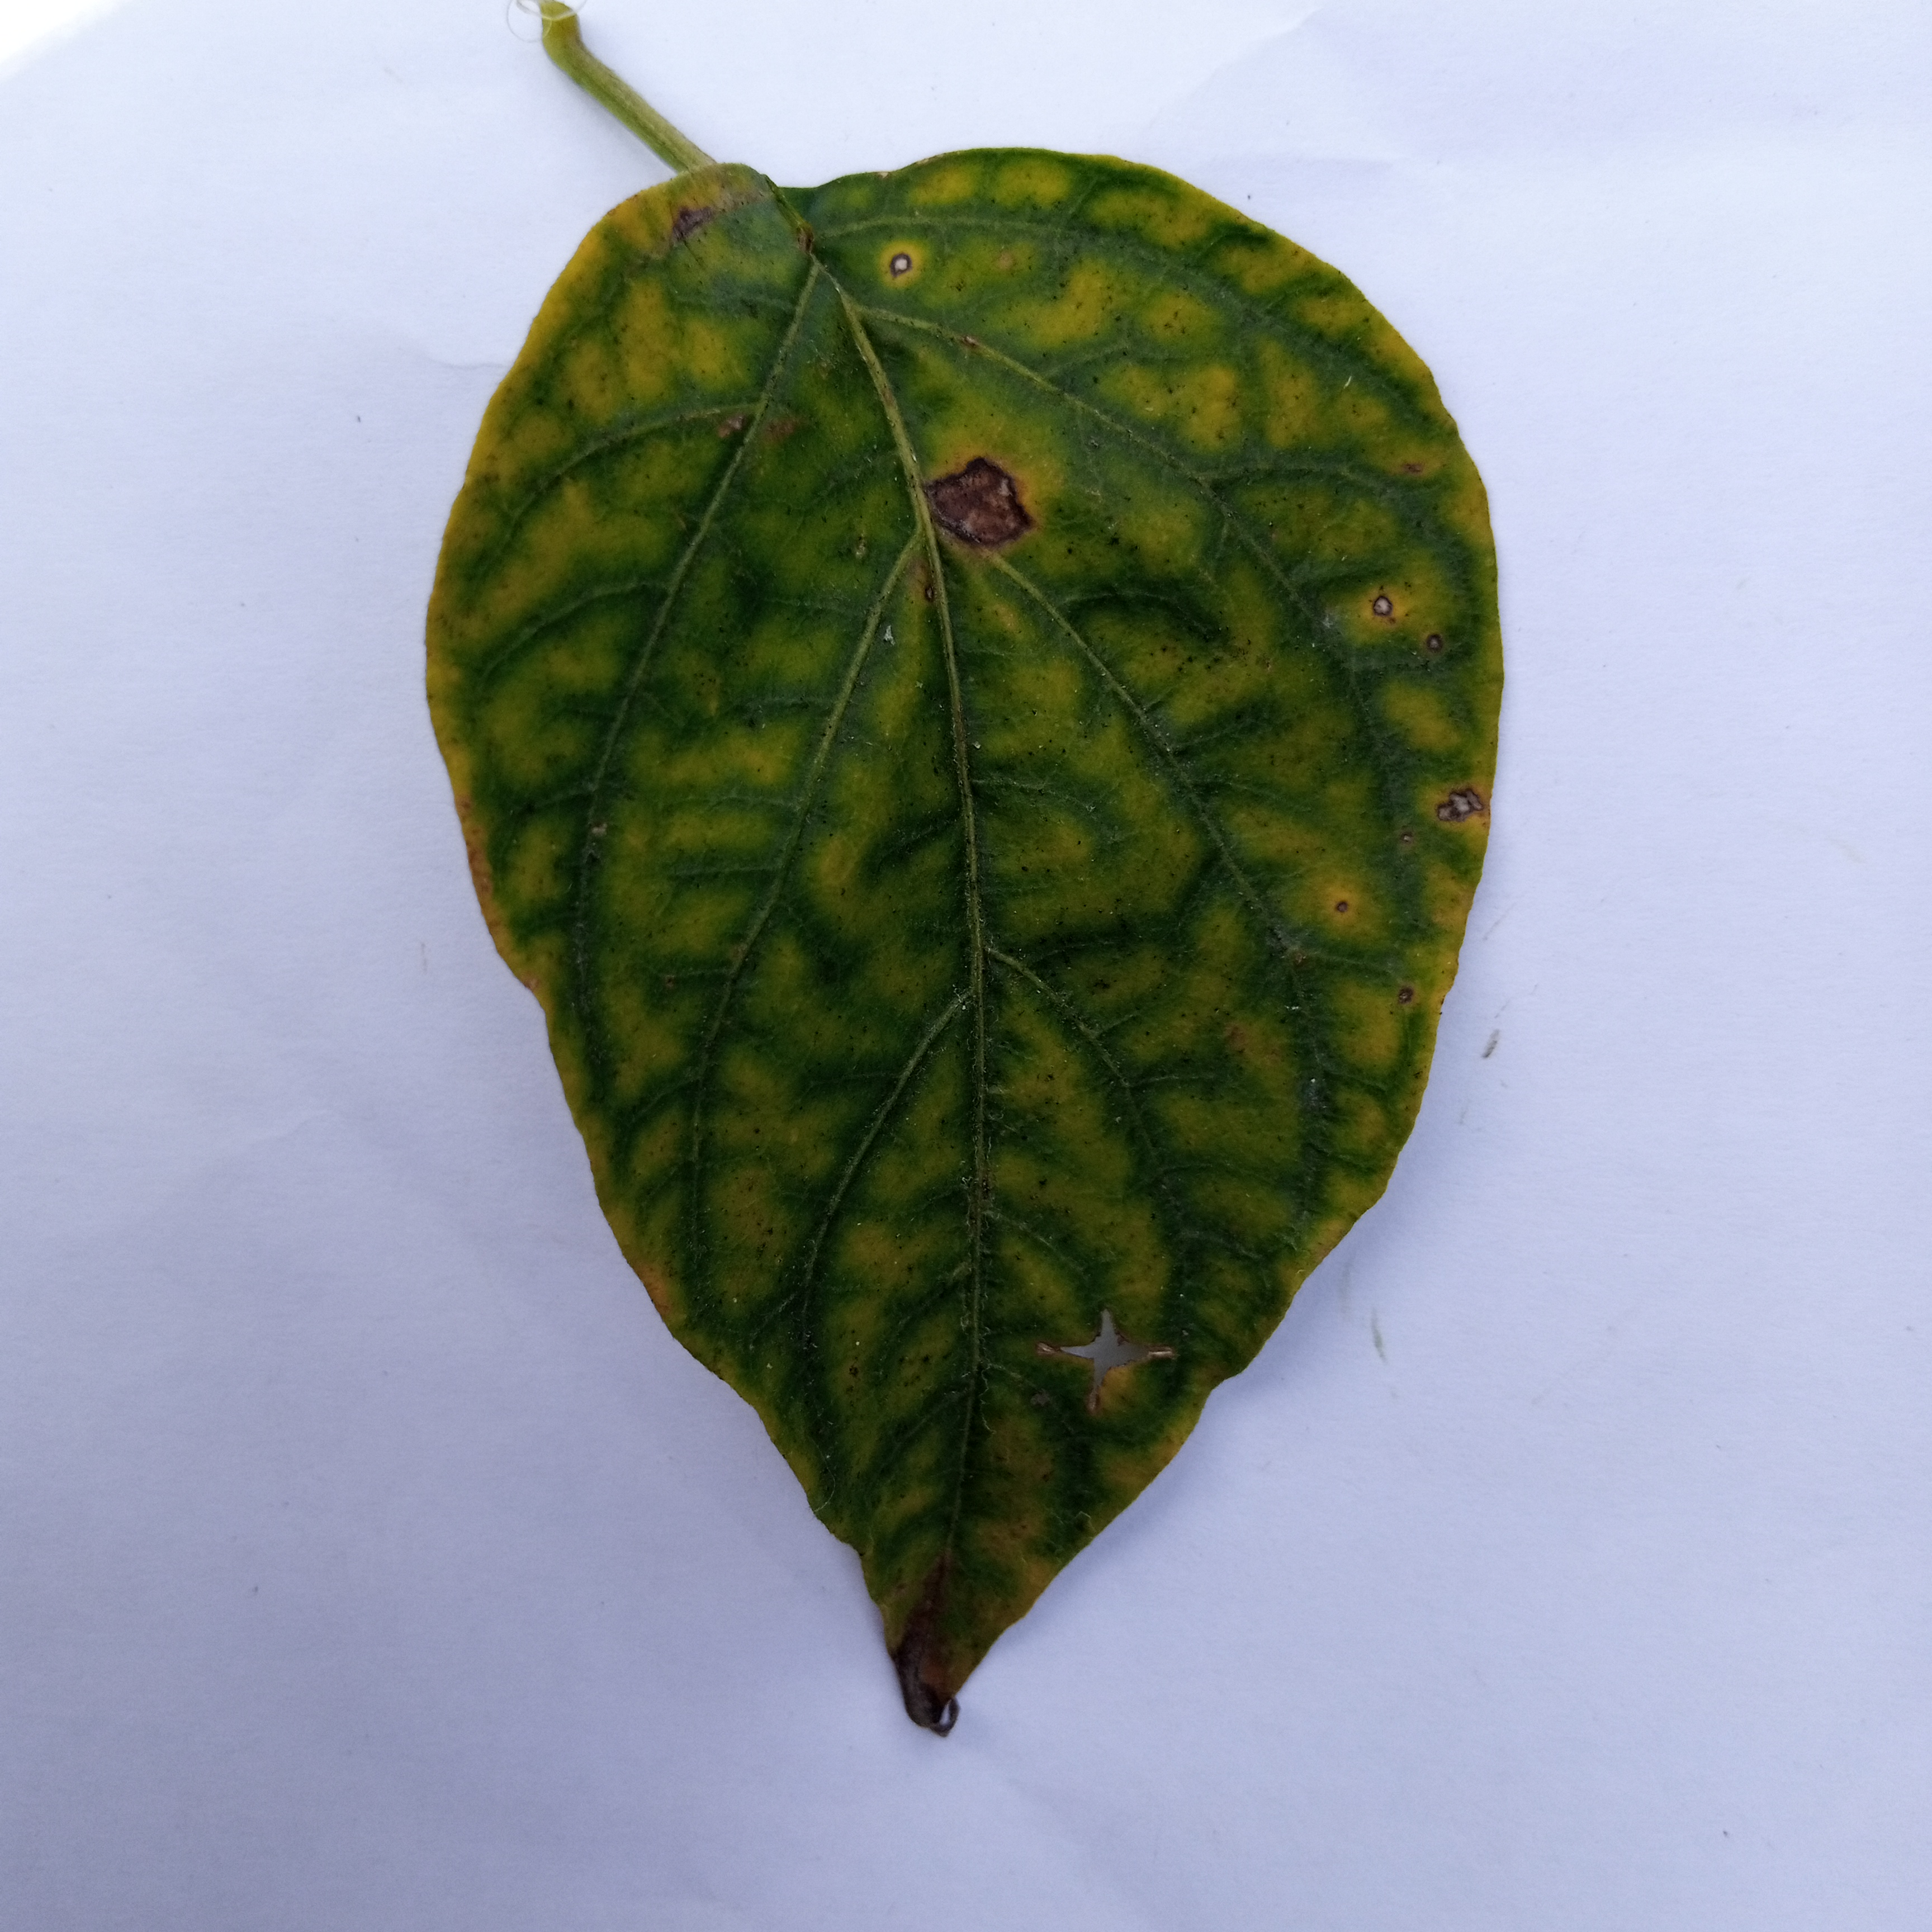Leaf: (345, 110, 1566, 1813)
